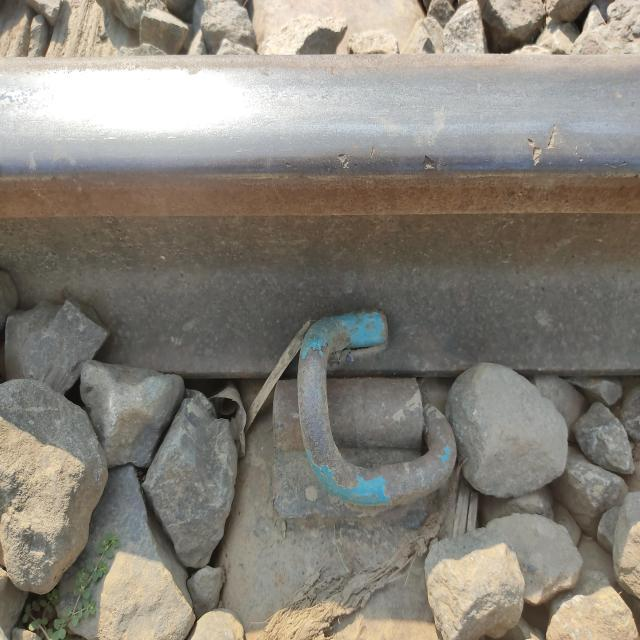broken_rail_medium: (526, 122, 558, 166), (422, 153, 444, 173), (336, 152, 350, 174), (573, 140, 584, 164), (604, 160, 630, 170), (367, 144, 377, 162)
